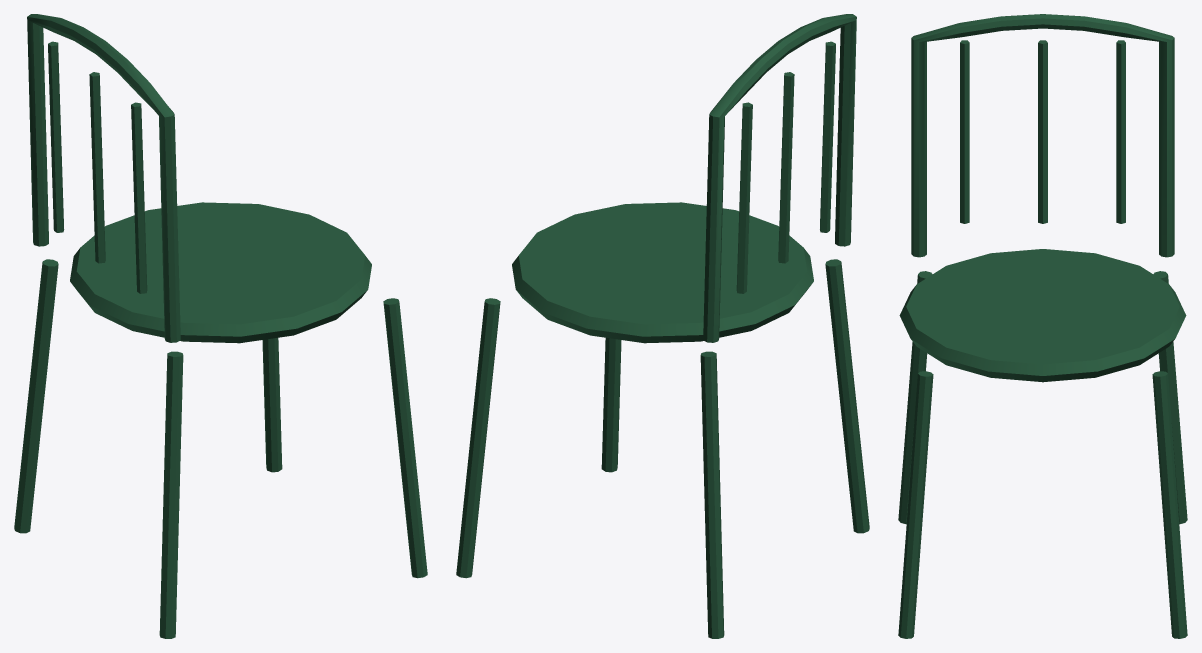
The model's file is SM_Prop_cafe_chair_2.glb.
The picture shows the model from 3 angles, left to right: view 1: azimuth 30°, elevation 25°; view 2: azimuth 150°, elevation 25°; view 3: azimuth 270°, elevation 25°; orthographic projection. The views are drawn at different scales.
Parts seen in each view (by area): view 1: SM_Prop_cafe_chair_2; view 2: SM_Prop_cafe_chair_2; view 3: SM_Prop_cafe_chair_2.
Part boxes in pixels (<box>): SM_Prop_cafe_chair_2: <box>14,14,427,638</box>; SM_Prop_cafe_chair_2: <box>456,14,869,638</box>; SM_Prop_cafe_chair_2: <box>898,14,1187,638</box>.
Size of the model in its own units: 0.4439 by 0.8632 by 0.4439.
